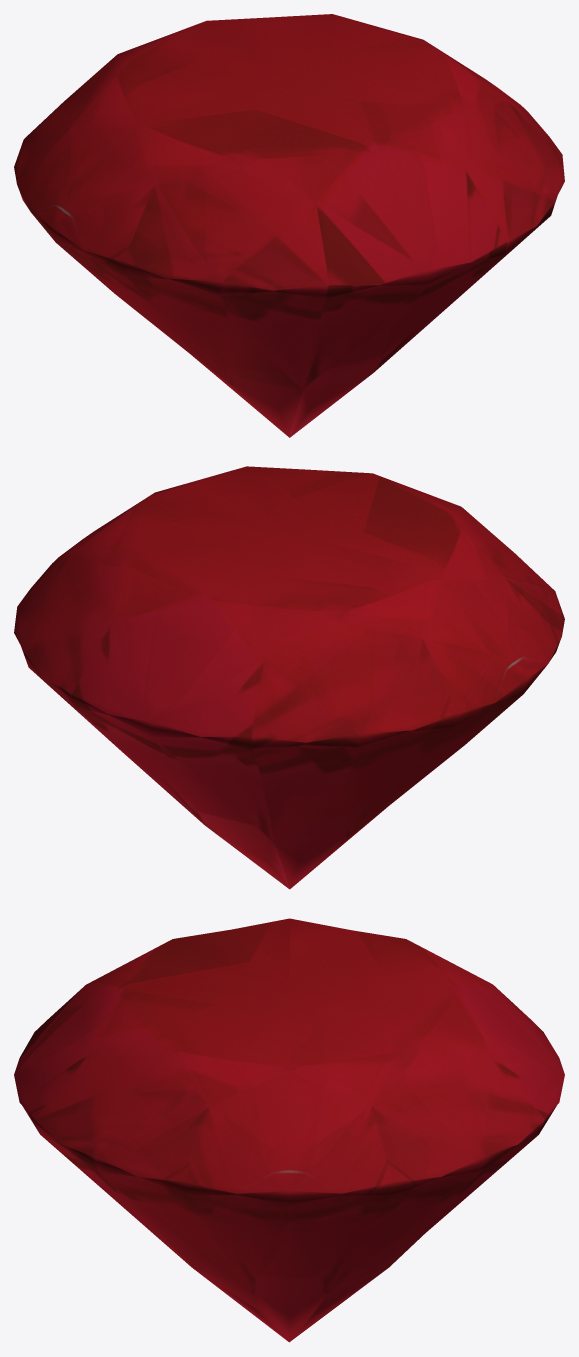
File: jewel_t2.glb
3 views of the same model, one above another, from view 1: azimuth 30°, elevation 25°; view 2: azimuth 150°, elevation 25°; view 3: azimuth 270°, elevation 25° (orthographic).
Size of the model in its own units: 0.9492 by 0.6802 by 0.9575.
1 material, 1 textured.
